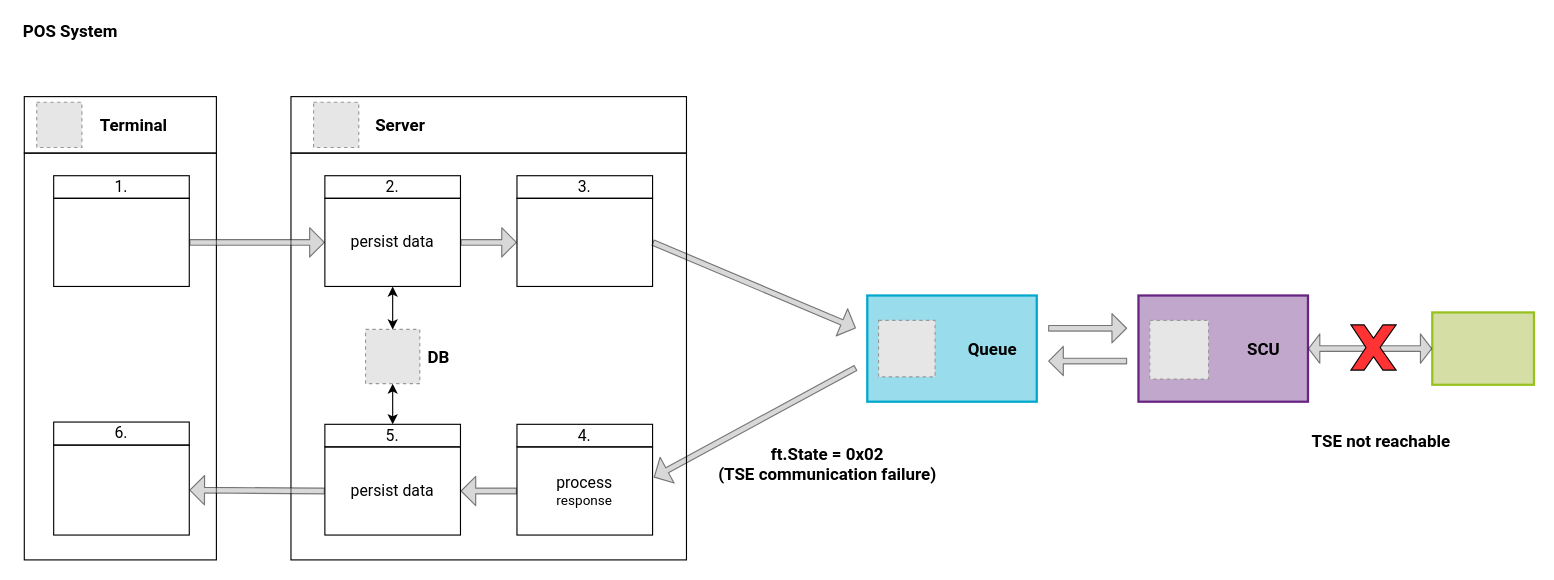
Some shapes in this 1554 by 580 pixel diagram are drawn without their labels. Grey dashed boxes stand in for pictures. Each missing label, with the box of its shape:
collect charge and pay items: (53, 197, 189, 286)
Print receipt with hint: "TSE Kommunikation ausgefallen": (53, 444, 189, 535)
send sign request: (516, 197, 653, 286)
TSE: (1431, 311, 1535, 385)
